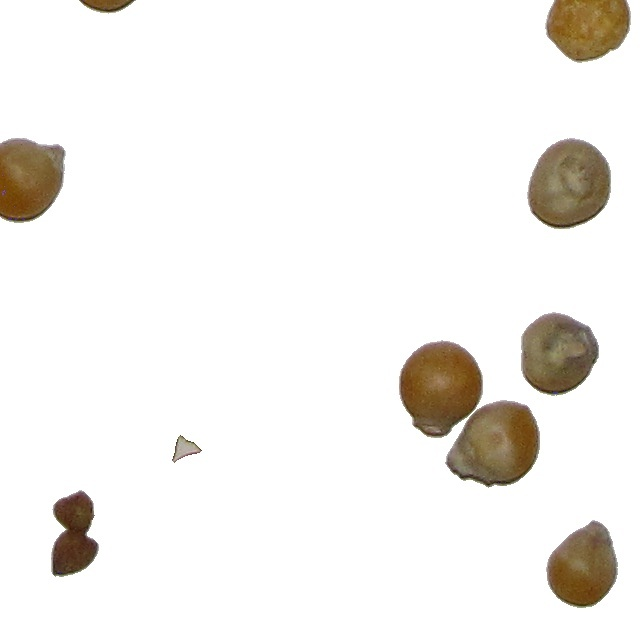buckwheat: (50, 522, 104, 578)
mais: (444, 399, 541, 489), (398, 339, 484, 439), (526, 137, 612, 230), (520, 311, 600, 397), (545, 519, 619, 609)
other: (171, 434, 203, 464)
